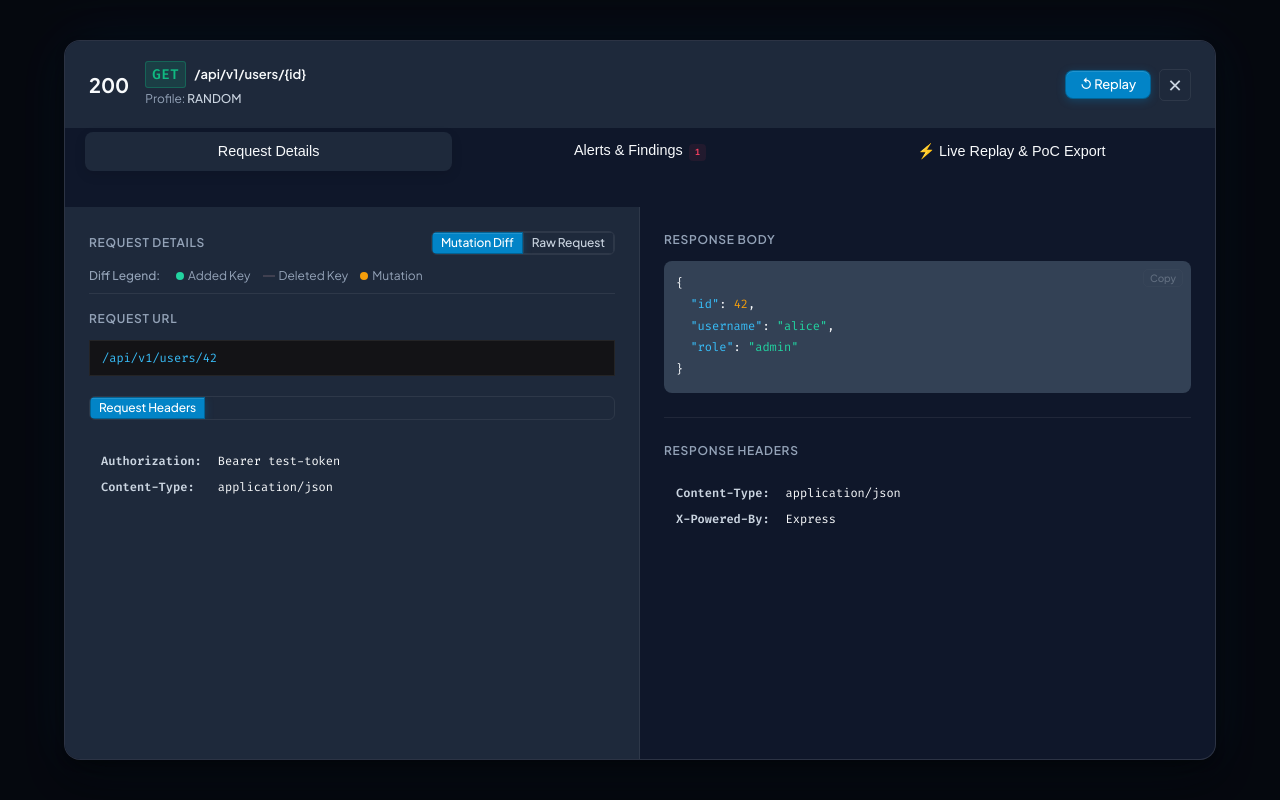
RequestDetail Component › generates adaptive AI PoC script when Adaptive AI mode is selected
The image size is (1280, 800).
Step 1. Click the tab "⚡️ Live Replay & PoC Export" → (1011, 151), box [828,132,1195,171]
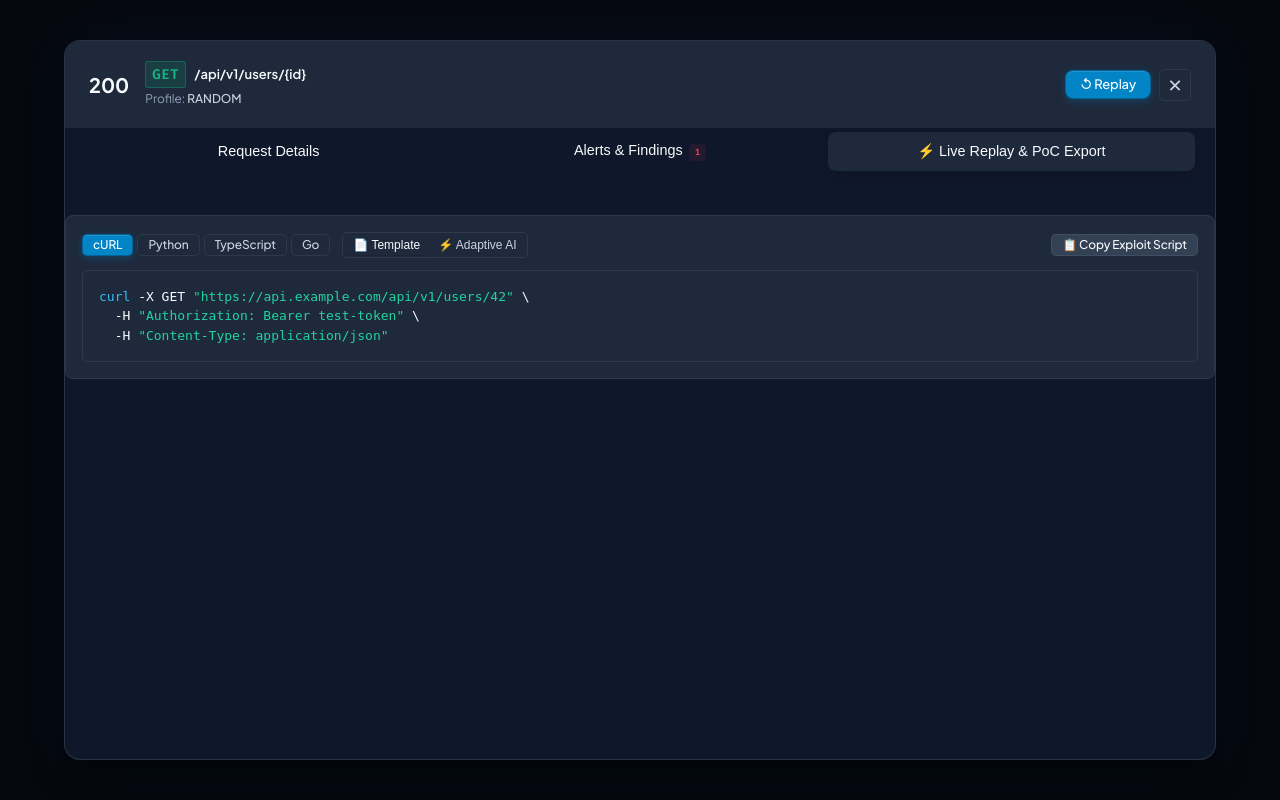
Step 2. Click the button "⚡ Adaptive AI" → (477, 245), box [430,235,524,255]
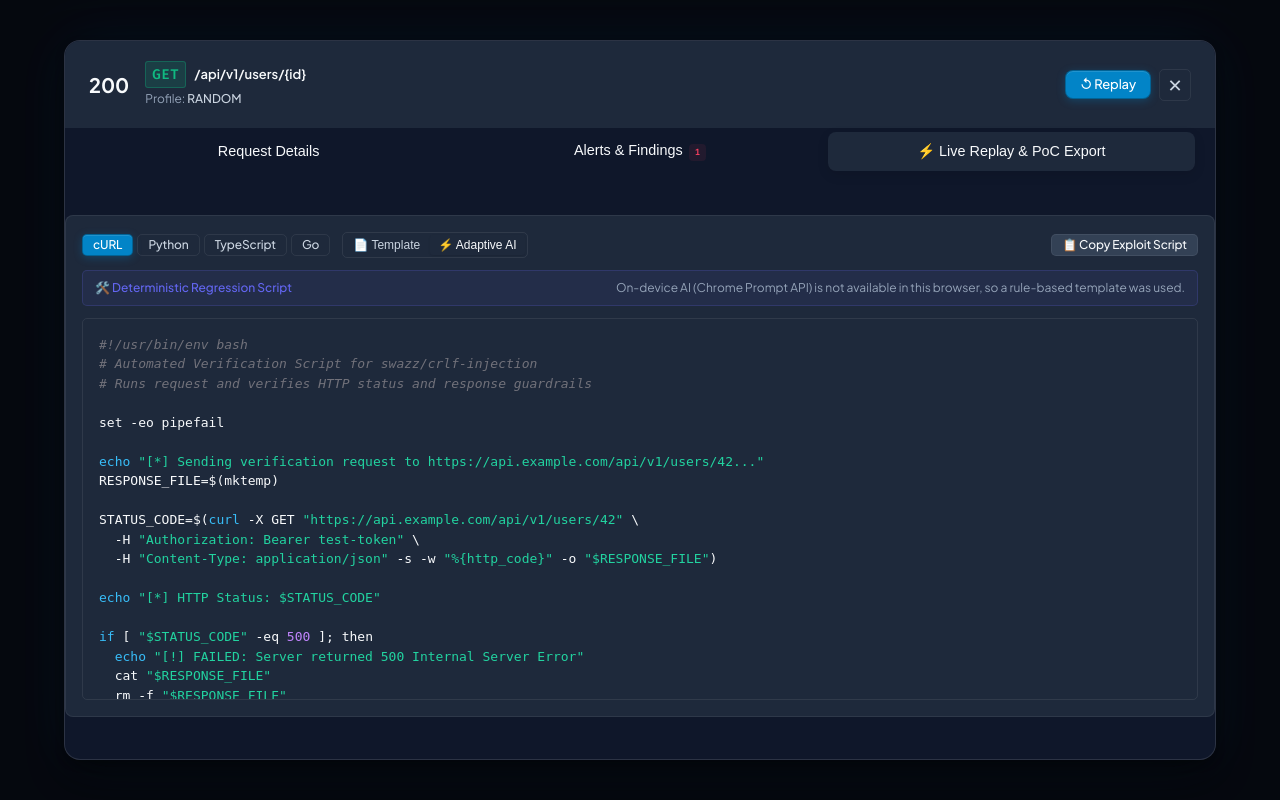
Now the element that starts with "#!/usr/bin/env bash" is shown, box [99,337,764,700]
Now the text "🛠️ Deterministic Regression Script" is shown, box [95,279,292,297]
